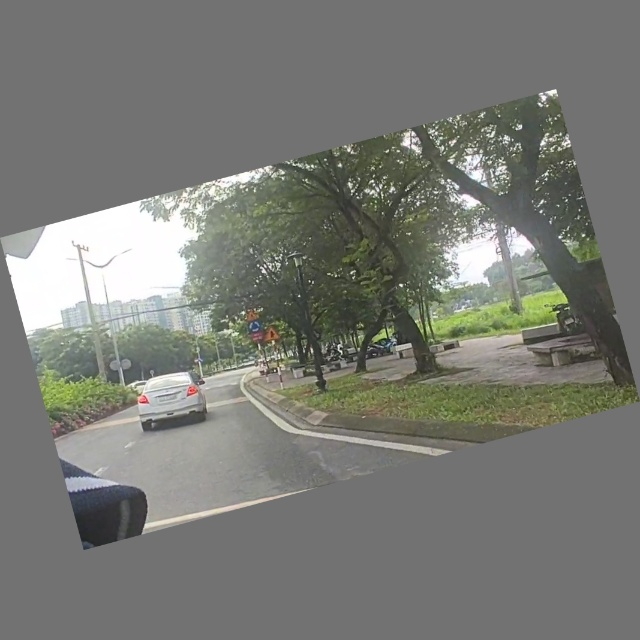R.302a: (198, 358, 205, 365)
R.303: (247, 320, 263, 335)
W.207: (260, 326, 282, 344)
W.224: (245, 310, 260, 323)
